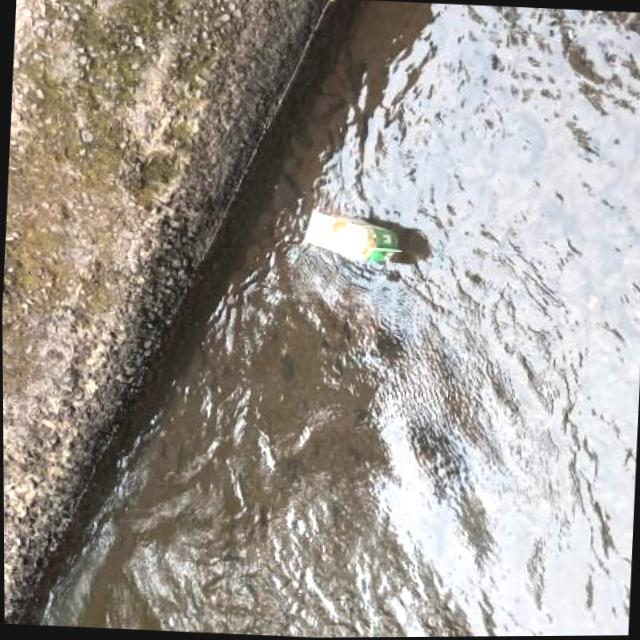Cardboard: (300, 209, 410, 267)
